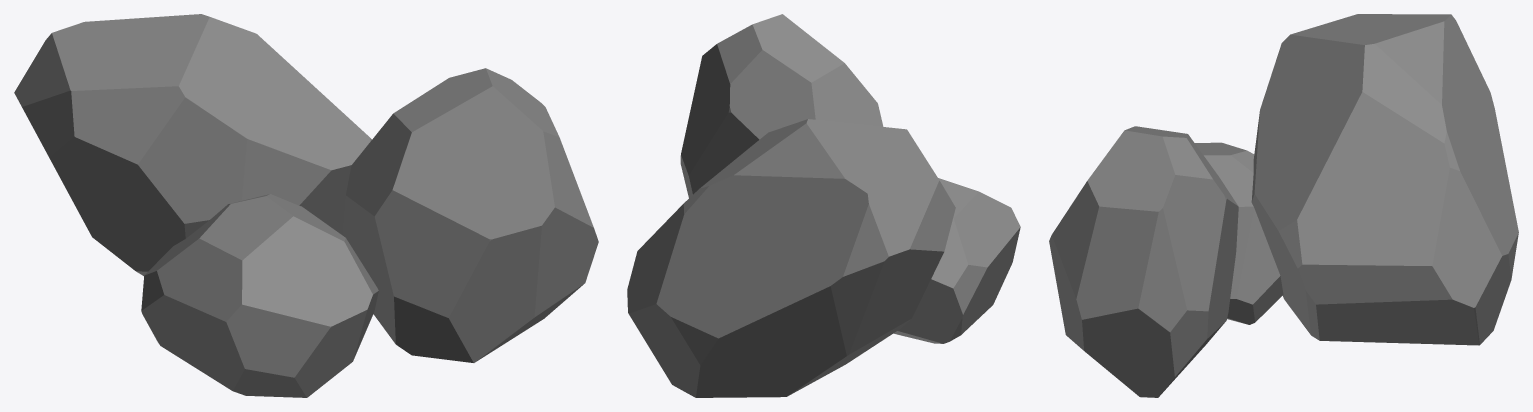
File: Pedratripla.fbx
The picture shows the model from 3 angles, left to right: view 1: azimuth 30°, elevation 25°; view 2: azimuth 150°, elevation 25°; view 3: azimuth 270°, elevation 25°; orthographic projection. The views are drawn at different scales.
Parts seen in each view (by area): view 1: Sphere.001; view 2: Sphere.001; view 3: Sphere.001.
Boxes of the visible parts, x1,y1,x2,y2 form: Sphere.001: (14, 14, 598, 397); Sphere.001: (627, 14, 1020, 397); Sphere.001: (1049, 14, 1518, 397).
Bounding box in the file's own units: 252 × 163 × 266.
Materials: 1 (1 with a texture image).
